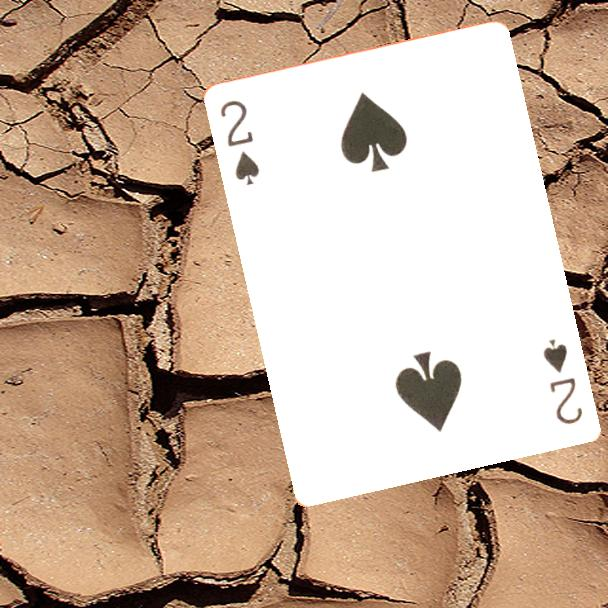s02: (216, 96, 262, 188), (539, 335, 585, 427)
